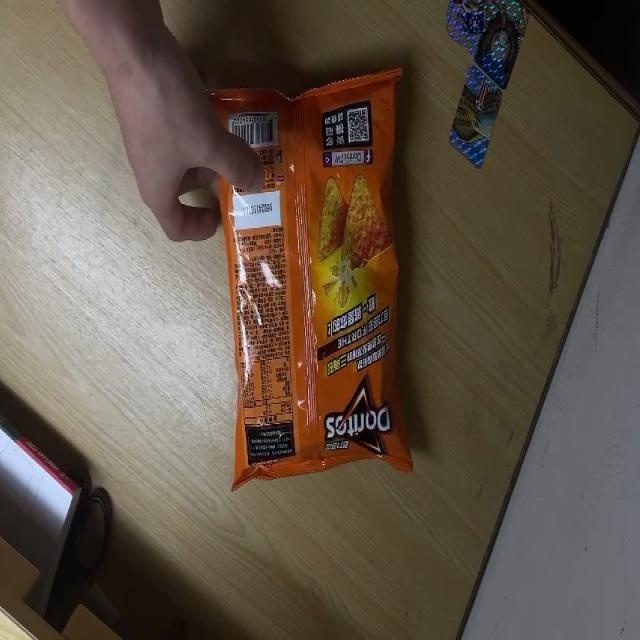Doritos: (204, 64, 412, 493)
